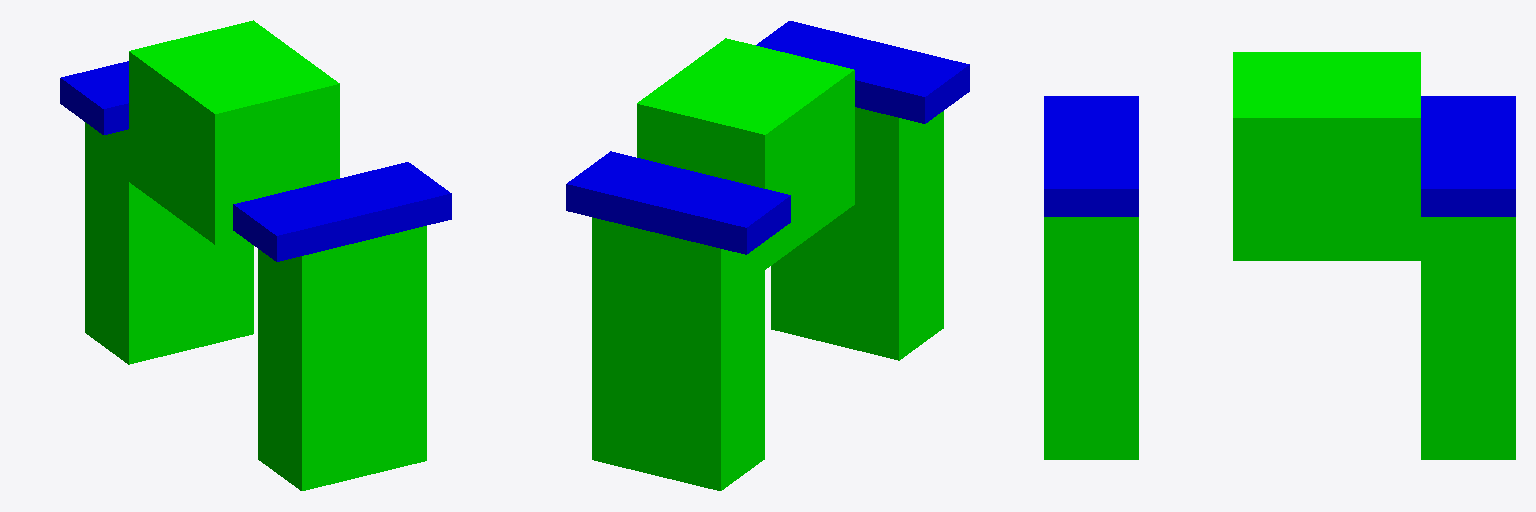
--- What the picture shows (computed from the rendered views, not written in the file) ---
The picture shows the robot from 3 angles, left to right: view 1: azimuth 30°, elevation 25°; view 2: azimuth 150°, elevation 25°; view 3: azimuth 270°, elevation 25°; orthographic projection.
Model robot with 27 links and 26 joints (26 revolute), rooted at root, posed every joint at zero.
Links seen in each view (by area): view 1: [phone redacted] (×18), 000, 010, 000-121, 000-101, 000-111, 010-100, 010-120, 010-110; view 2: [phone redacted] (×18), 010, 000, 010-120, 000-101, 000-121, 010-100, 010-110, 000-111; view 3: [phone redacted] (×18), 000, 010, 010-100, 010-120, 000-101, 000-121, 010-110, 000-111.
Boxes of the visible links, x1,y1,x2,y2 form: [phone redacted] (×18): [85, 122, 426, 490]; 000: [172, 52, 339, 244]; 010: [129, 20, 295, 212]; 000-121: [262, 183, 451, 261]; 000-101: [233, 162, 421, 240]; 000-111: [248, 172, 436, 250]; 010-100: [89, 89, 128, 134]; 010-120: [60, 61, 128, 113]; 010-110: [75, 75, 128, 123]; [phone redacted] (×18): [592, 107, 943, 490]; 010: [637, 71, 809, 269]; 000: [682, 38, 854, 236]; 010-120: [566, 173, 760, 254]; 000-101: [756, 42, 939, 123]; 000-121: [775, 21, 969, 101]; 010-100: [597, 151, 790, 232]; 010-110: [582, 162, 775, 243]; 000-111: [761, 31, 954, 112]; [phone redacted] (×18): [1044, 217, 1515, 459]; 000: [1233, 52, 1326, 260]; 010: [1327, 52, 1420, 260]; 010-100: [1421, 96, 1452, 216]; 010-120: [1484, 96, 1515, 216]; 000-101: [1107, 96, 1138, 216]; 000-121: [1044, 96, 1075, 216]; 010-110: [1453, 96, 1483, 216]; 000-111: [1076, 96, 1106, 216].
Size in the robot's own frame: 0.7 by 1.5 by 1.2 metres.
Geometry: primitives only (box / cylinder / sphere), no mesh files.

The robot description file, URDF, robot "robot":
<robot name = "robot">
    <link name="root">
        <inertial>
            <origin xyz="0.0 0.0 1.5" rpy="0 0 0"/>
            <mass value="1" />
            <inertia ixx="100" ixy="0" ixz="0" iyy="100" iyz="0" izz="100" />
        </inertial>
        <visual>
            <origin xyz="0.0 0.0 1.5" rpy="0 0 0"/>
            <geometry>
                <box size="0 0 0.0001" />
            </geometry>
            <material name="Green">
                <color rgba="0 1.0 0.0 1.0"/>
            </material>
        </visual>
        <collision>
            <origin xyz="0.0 0.0 1.5" rpy="0 0 0"/>
            <geometry>
                <box size="0 0 0.0001" />
            </geometry>
        </collision>
    </link>
    <joint name="root_000" type="revolute">
       <parent link="root"/>
       <child  link="000"/>
       <origin rpy="0 0 0" xyz="0.0 0.0 1.5" />
     <axis xyz="1 0 0"/>
       <limit effort="0.0" lower="-3.14159" upper="3.14159" velocity="0.0"/>
    </joint>
    <link name="000">
        <inertial>
            <origin xyz="0.0 0.15 0.0" rpy="0 0 0"/>
            <mass value="1" />
            <inertia ixx="100" ixy="0" ixz="0" iyy="100" iyz="0" izz="100" />
        </inertial>
        <visual>
            <origin xyz="0.0 0.15 0.0" rpy="0 0 0"/>
            <geometry>
                <box size="0.5 0.3 0.5" />
            </geometry>
            <material name="Green">
                <color rgba="0 1.0 0.0 1.0"/>
            </material>
        </visual>
        <collision>
            <origin xyz="0.0 0.15 0.0" rpy="0 0 0"/>
            <geometry>
                <box size="0.5 0.3 0.5" />
            </geometry>
        </collision>
    </link>
    <joint name="000_010" type="revolute">
       <parent link="000"/>
       <child  link="010"/>
       <origin rpy="0 0 0" xyz="0.0 0.3 -0.0" />
     <axis xyz="0 1 0"/>
       <limit effort="0.0" lower="-3.14159" upper="3.14159" velocity="0.0"/>
    </joint>
    <link name="010">
        <inertial>
            <origin xyz="0.0 0.15 -0.0" rpy="0 0 0"/>
            <mass value="1" />
            <inertia ixx="100" ixy="0" ixz="0" iyy="100" iyz="0" izz="100" />
        </inertial>
        <visual>
            <origin xyz="0.0 0.15 -0.0" rpy="0 0 0"/>
            <geometry>
                <box size="0.5 0.3 0.5" />
            </geometry>
            <material name="Green">
                <color rgba="0 1.0 0.0 1.0"/>
            </material>
        </visual>
        <collision>
            <origin xyz="0.0 0.15 -0.0" rpy="0 0 0"/>
            <geometry>
                <box size="0.5 0.3 0.5" />
            </geometry>
        </collision>
    </link>
    <joint name="010_010-100" type="revolute">
       <parent link="010"/>
       <child  link="010-100"/>
       <origin rpy="0 0 0" xyz="0.0 0.3 -0.0" />
     <axis xyz="0 1 0"/>
       <limit effort="0.0" lower="-3.14159" upper="3.14159" velocity="0.0"/>
    </joint>
    <link name="010-100">
        <inertial>
            <origin xyz="0.0 0.05 -0.0" rpy="0 0 0"/>
            <mass value="1" />
            <inertia ixx="100" ixy="0" ixz="0" iyy="100" iyz="0" izz="100" />
        </inertial>
        <visual>
            <origin xyz="0.0 0.05 -0.0" rpy="0 0 0"/>
            <geometry>
                <box size="0.7 0.1 0.1" />
            </geometry>
            <material name="Blue">
                <color rgba="0 0.0 1.0 1.0"/>
            </material>
        </visual>
        <collision>
            <origin xyz="0.0 0.05 -0.0" rpy="0 0 0"/>
            <geometry>
                <box size="0.7 0.1 0.1" />
            </geometry>
        </collision>
    </link>
    <joint name="010-100_010-110" type="revolute">
       <parent link="010-100"/>
       <child  link="010-110"/>
       <origin rpy="0 0 0" xyz="0.0 0.1 -0.0" />
     <axis xyz="0 1 0"/>
       <limit effort="0.0" lower="-3.14159" upper="3.14159" velocity="0.0"/>
    </joint>
    <link name="010-110">
        <inertial>
            <origin xyz="0.0 0.05 -0.0" rpy="0 0 0"/>
            <mass value="1" />
            <inertia ixx="100" ixy="0" ixz="0" iyy="100" iyz="0" izz="100" />
        </inertial>
        <visual>
            <origin xyz="0.0 0.05 -0.0" rpy="0 0 0"/>
            <geometry>
                <box size="0.7 0.1 0.1" />
            </geometry>
            <material name="Blue">
                <color rgba="0 0.0 1.0 1.0"/>
            </material>
        </visual>
        <collision>
            <origin xyz="0.0 0.05 -0.0" rpy="0 0 0"/>
            <geometry>
                <box size="0.7 0.1 0.1" />
            </geometry>
        </collision>
    </link>
    <joint name="010-110_010-120" type="revolute">
       <parent link="010-110"/>
       <child  link="010-120"/>
       <origin rpy="0 0 0" xyz="0.0 0.1 -0.0" />
     <axis xyz="0 1 0"/>
       <limit effort="0.0" lower="-3.14159" upper="3.14159" velocity="0.0"/>
    </joint>
    <link name="010-120">
        <inertial>
            <origin xyz="0.0 0.05 -0.0" rpy="0 0 0"/>
            <mass value="1" />
            <inertia ixx="100" ixy="0" ixz="0" iyy="100" iyz="0" izz="100" />
        </inertial>
        <visual>
            <origin xyz="0.0 0.05 -0.0" rpy="0 0 0"/>
            <geometry>
                <box size="0.7 0.1 0.1" />
            </geometry>
            <material name="Blue">
                <color rgba="0 0.0 1.0 1.0"/>
            </material>
        </visual>
        <collision>
            <origin xyz="0.0 0.05 -0.0" rpy="0 0 0"/>
            <geometry>
                <box size="0.7 0.1 0.1" />
            </geometry>
        </collision>
    </link>
    <joint name="010-120_010-120-200" type="revolute">
       <parent link="010-120"/>
       <child  link="010-120-200"/>
       <origin rpy="0 0 0" xyz="0.0 0.05 -0.05" />
     <axis xyz="0 0 1"/>
       <limit effort="0.0" lower="-3.14159" upper="3.14159" velocity="0.0"/>
    </joint>
    <link name="010-120-200">
        <inertial>
            <origin xyz="0.0 0.0 -0.15" rpy="0 0 0"/>
            <mass value="1" />
            <inertia ixx="100" ixy="0" ixz="0" iyy="100" iyz="0" izz="100" />
        </inertial>
        <visual>
            <origin xyz="0.0 0.0 -0.15" rpy="0 0 0"/>
            <geometry>
                <box size="0.5 0.1 0.3" />
            </geometry>
            <material name="Green">
                <color rgba="0 1.0 0.0 1.0"/>
            </material>
        </visual>
        <collision>
            <origin xyz="0.0 0.0 -0.15" rpy="0 0 0"/>
            <geometry>
                <box size="0.5 0.1 0.3" />
            </geometry>
        </collision>
    </link>
    <joint name="010-120-200_010-120-210" type="revolute">
       <parent link="010-120-200"/>
       <child  link="010-120-210"/>
       <origin rpy="0 0 0" xyz="0.0 0.0 -0.3" />
     <axis xyz="0 0 1"/>
       <limit effort="0.0" lower="-3.14159" upper="3.14159" velocity="0.0"/>
    </joint>
    <link name="010-120-210">
        <inertial>
            <origin xyz="0.0 0.0 -0.15" rpy="0 0 0"/>
            <mass value="1" />
            <inertia ixx="100" ixy="0" ixz="0" iyy="100" iyz="0" izz="100" />
        </inertial>
        <visual>
            <origin xyz="0.0 0.0 -0.15" rpy="0 0 0"/>
            <geometry>
                <box size="0.5 0.1 0.3" />
            </geometry>
            <material name="Green">
                <color rgba="0 1.0 0.0 1.0"/>
            </material>
        </visual>
        <collision>
            <origin xyz="0.0 0.0 -0.15" rpy="0 0 0"/>
            <geometry>
                <box size="0.5 0.1 0.3" />
            </geometry>
        </collision>
    </link>
    <joint name="010-120-210_010-120-220" type="revolute">
       <parent link="010-120-210"/>
       <child  link="010-120-220"/>
       <origin rpy="0 0 0" xyz="0.0 0.0 -0.3" />
     <axis xyz="0 0 1"/>
       <limit effort="0.0" lower="-3.14159" upper="3.14159" velocity="0.0"/>
    </joint>
    <link name="010-120-220">
        <inertial>
            <origin xyz="0.0 0.0 -0.15" rpy="0 0 0"/>
            <mass value="1" />
            <inertia ixx="100" ixy="0" ixz="0" iyy="100" iyz="0" izz="100" />
        </inertial>
        <visual>
            <origin xyz="0.0 0.0 -0.15" rpy="0 0 0"/>
            <geometry>
                <box size="0.5 0.1 0.3" />
            </geometry>
            <material name="Green">
                <color rgba="0 1.0 0.0 1.0"/>
            </material>
        </visual>
        <collision>
            <origin xyz="0.0 0.0 -0.15" rpy="0 0 0"/>
            <geometry>
                <box size="0.5 0.1 0.3" />
            </geometry>
        </collision>
    </link>
    <joint name="010-110_010-110-200" type="revolute">
       <parent link="010-110"/>
       <child  link="010-110-200"/>
       <origin rpy="0 0 0" xyz="0.0 0.05 -0.05" />
     <axis xyz="0 0 1"/>
       <limit effort="0.0" lower="-3.14159" upper="3.14159" velocity="0.0"/>
    </joint>
    <link name="010-110-200">
        <inertial>
            <origin xyz="0.0 0.0 -0.15" rpy="0 0 0"/>
            <mass value="1" />
            <inertia ixx="100" ixy="0" ixz="0" iyy="100" iyz="0" izz="100" />
        </inertial>
        <visual>
            <origin xyz="0.0 0.0 -0.15" rpy="0 0 0"/>
            <geometry>
                <box size="0.5 0.1 0.3" />
            </geometry>
            <material name="Green">
                <color rgba="0 1.0 0.0 1.0"/>
            </material>
        </visual>
        <collision>
            <origin xyz="0.0 0.0 -0.15" rpy="0 0 0"/>
            <geometry>
                <box size="0.5 0.1 0.3" />
            </geometry>
        </collision>
    </link>
    <joint name="010-110-200_010-110-210" type="revolute">
       <parent link="010-110-200"/>
       <child  link="010-110-210"/>
       <origin rpy="0 0 0" xyz="0.0 0.0 -0.3" />
     <axis xyz="0 0 1"/>
       <limit effort="0.0" lower="-3.14159" upper="3.14159" velocity="0.0"/>
    </joint>
    <link name="010-110-210">
        <inertial>
            <origin xyz="0.0 0.0 -0.15" rpy="0 0 0"/>
            <mass value="1" />
            <inertia ixx="100" ixy="0" ixz="0" iyy="100" iyz="0" izz="100" />
        </inertial>
        <visual>
            <origin xyz="0.0 0.0 -0.15" rpy="0 0 0"/>
            <geometry>
                <box size="0.5 0.1 0.3" />
            </geometry>
            <material name="Green">
                <color rgba="0 1.0 0.0 1.0"/>
            </material>
        </visual>
        <collision>
            <origin xyz="0.0 0.0 -0.15" rpy="0 0 0"/>
            <geometry>
                <box size="0.5 0.1 0.3" />
            </geometry>
        </collision>
    </link>
    <joint name="010-110-210_010-110-220" type="revolute">
       <parent link="010-110-210"/>
       <child  link="010-110-220"/>
       <origin rpy="0 0 0" xyz="0.0 0.0 -0.3" />
     <axis xyz="0 0 1"/>
       <limit effort="0.0" lower="-3.14159" upper="3.14159" velocity="0.0"/>
    </joint>
    <link name="010-110-220">
        <inertial>
            <origin xyz="0.0 0.0 -0.15" rpy="0 0 0"/>
            <mass value="1" />
            <inertia ixx="100" ixy="0" ixz="0" iyy="100" iyz="0" izz="100" />
        </inertial>
        <visual>
            <origin xyz="0.0 0.0 -0.15" rpy="0 0 0"/>
            <geometry>
                <box size="0.5 0.1 0.3" />
            </geometry>
            <material name="Green">
                <color rgba="0 1.0 0.0 1.0"/>
            </material>
        </visual>
        <collision>
            <origin xyz="0.0 0.0 -0.15" rpy="0 0 0"/>
            <geometry>
                <box size="0.5 0.1 0.3" />
            </geometry>
        </collision>
    </link>
    <joint name="010-100_010-100-200" type="revolute">
       <parent link="010-100"/>
       <child  link="010-100-200"/>
       <origin rpy="0 0 0" xyz="0.0 0.05 -0.05" />
     <axis xyz="0 0 1"/>
       <limit effort="0.0" lower="-3.14159" upper="3.14159" velocity="0.0"/>
    </joint>
    <link name="010-100-200">
        <inertial>
            <origin xyz="0.0 0.0 -0.15" rpy="0 0 0"/>
            <mass value="1" />
            <inertia ixx="100" ixy="0" ixz="0" iyy="100" iyz="0" izz="100" />
        </inertial>
        <visual>
            <origin xyz="0.0 0.0 -0.15" rpy="0 0 0"/>
            <geometry>
                <box size="0.5 0.1 0.3" />
            </geometry>
            <material name="Green">
                <color rgba="0 1.0 0.0 1.0"/>
            </material>
        </visual>
        <collision>
            <origin xyz="0.0 0.0 -0.15" rpy="0 0 0"/>
            <geometry>
                <box size="0.5 0.1 0.3" />
            </geometry>
        </collision>
    </link>
    <joint name="010-100-200_010-100-210" type="revolute">
       <parent link="010-100-200"/>
       <child  link="010-100-210"/>
       <origin rpy="0 0 0" xyz="0.0 0.0 -0.3" />
     <axis xyz="0 0 1"/>
       <limit effort="0.0" lower="-3.14159" upper="3.14159" velocity="0.0"/>
    </joint>
    <link name="010-100-210">
        <inertial>
            <origin xyz="0.0 0.0 -0.15" rpy="0 0 0"/>
            <mass value="1" />
            <inertia ixx="100" ixy="0" ixz="0" iyy="100" iyz="0" izz="100" />
        </inertial>
        <visual>
            <origin xyz="0.0 0.0 -0.15" rpy="0 0 0"/>
            <geometry>
                <box size="0.5 0.1 0.3" />
            </geometry>
            <material name="Green">
                <color rgba="0 1.0 0.0 1.0"/>
            </material>
        </visual>
        <collision>
            <origin xyz="0.0 0.0 -0.15" rpy="0 0 0"/>
            <geometry>
                <box size="0.5 0.1 0.3" />
            </geometry>
        </collision>
    </link>
    <joint name="010-100-210_010-100-220" type="revolute">
       <parent link="010-100-210"/>
       <child  link="010-100-220"/>
       <origin rpy="0 0 0" xyz="0.0 0.0 -0.3" />
     <axis xyz="0 0 1"/>
       <limit effort="0.0" lower="-3.14159" upper="3.14159" velocity="0.0"/>
    </joint>
    <link name="010-100-220">
        <inertial>
            <origin xyz="0.0 0.0 -0.15" rpy="0 0 0"/>
            <mass value="1" />
            <inertia ixx="100" ixy="0" ixz="0" iyy="100" iyz="0" izz="100" />
        </inertial>
        <visual>
            <origin xyz="0.0 0.0 -0.15" rpy="0 0 0"/>
            <geometry>
                <box size="0.5 0.1 0.3" />
            </geometry>
            <material name="Green">
                <color rgba="0 1.0 0.0 1.0"/>
            </material>
        </visual>
        <collision>
            <origin xyz="0.0 0.0 -0.15" rpy="0 0 0"/>
            <geometry>
                <box size="0.5 0.1 0.3" />
            </geometry>
        </collision>
    </link>
    <joint name="000_000-101" type="revolute">
       <parent link="000"/>
       <child  link="000-101"/>
       <origin rpy="0 0 0" xyz="0.0 -0.3 -0.0" />
     <axis xyz="0 1 0"/>
       <limit effort="0.0" lower="-3.14159" upper="3.14159" velocity="0.0"/>
    </joint>
    <link name="000-101">
        <inertial>
            <origin xyz="0.0 -0.05 -0.0" rpy="0 0 0"/>
            <mass value="1" />
            <inertia ixx="100" ixy="0" ixz="0" iyy="100" iyz="0" izz="100" />
        </inertial>
        <visual>
            <origin xyz="0.0 -0.05 -0.0" rpy="0 0 0"/>
            <geometry>
                <box size="0.7 0.1 0.1" />
            </geometry>
            <material name="Blue">
                <color rgba="0 0.0 1.0 1.0"/>
            </material>
        </visual>
        <collision>
            <origin xyz="0.0 -0.05 -0.0" rpy="0 0 0"/>
            <geometry>
                <box size="0.7 0.1 0.1" />
            </geometry>
        </collision>
    </link>
    <joint name="000-101_000-111" type="revolute">
       <parent link="000-101"/>
       <child  link="000-111"/>
       <origin rpy="0 0 0" xyz="0.0 -0.1 -0.0" />
     <axis xyz="0 1 0"/>
       <limit effort="0.0" lower="-3.14159" upper="3.14159" velocity="0.0"/>
    </joint>
    <link name="000-111">
        <inertial>
            <origin xyz="0.0 -0.05 -0.0" rpy="0 0 0"/>
            <mass value="1" />
            <inertia ixx="100" ixy="0" ixz="0" iyy="100" iyz="0" izz="100" />
        </inertial>
        <visual>
            <origin xyz="0.0 -0.05 -0.0" rpy="0 0 0"/>
            <geometry>
                <box size="0.7 0.1 0.1" />
            </geometry>
            <material name="Blue">
                <color rgba="0 0.0 1.0 1.0"/>
            </material>
        </visual>
        <collision>
            <origin xyz="0.0 -0.05 -0.0" rpy="0 0 0"/>
            <geometry>
                <box size="0.7 0.1 0.1" />
            </geometry>
        </collision>
    </link>
    <joint name="000-111_000-121" type="revolute">
       <parent link="000-111"/>
       <child  link="000-121"/>
       <origin rpy="0 0 0" xyz="0.0 -0.1 -0.0" />
     <axis xyz="0 1 0"/>
       <limit effort="0.0" lower="-3.14159" upper="3.14159" velocity="0.0"/>
    </joint>
    <link name="000-121">
        <inertial>
            <origin xyz="0.0 -0.05 -0.0" rpy="0 0 0"/>
            <mass value="1" />
            <inertia ixx="100" ixy="0" ixz="0" iyy="100" iyz="0" izz="100" />
        </inertial>
        <visual>
            <origin xyz="0.0 -0.05 -0.0" rpy="0 0 0"/>
            <geometry>
                <box size="0.7 0.1 0.1" />
            </geometry>
            <material name="Blue">
                <color rgba="0 0.0 1.0 1.0"/>
            </material>
        </visual>
        <collision>
            <origin xyz="0.0 -0.05 -0.0" rpy="0 0 0"/>
            <geometry>
                <box size="0.7 0.1 0.1" />
            </geometry>
        </collision>
    </link>
    <joint name="000-121_000-121-200" type="revolute">
       <parent link="000-121"/>
       <child  link="000-121-200"/>
       <origin rpy="0 0 0" xyz="0.0 -0.05 -0.05" />
     <axis xyz="0 0 1"/>
       <limit effort="0.0" lower="-3.14159" upper="3.14159" velocity="0.0"/>
    </joint>
    <link name="000-121-200">
        <inertial>
            <origin xyz="0.0 -0.0 -0.15" rpy="0 0 0"/>
            <mass value="1" />
            <inertia ixx="100" ixy="0" ixz="0" iyy="100" iyz="0" izz="100" />
        </inertial>
        <visual>
            <origin xyz="0.0 -0.0 -0.15" rpy="0 0 0"/>
            <geometry>
                <box size="0.5 0.1 0.3" />
            </geometry>
            <material name="Green">
                <color rgba="0 1.0 0.0 1.0"/>
            </material>
        </visual>
        <collision>
            <origin xyz="0.0 -0.0 -0.15" rpy="0 0 0"/>
            <geometry>
                <box size="0.5 0.1 0.3" />
            </geometry>
        </collision>
    </link>
    <joint name="000-121-200_000-121-210" type="revolute">
       <parent link="000-121-200"/>
       <child  link="000-121-210"/>
       <origin rpy="0 0 0" xyz="0.0 -0.0 -0.3" />
     <axis xyz="0 0 1"/>
       <limit effort="0.0" lower="-3.14159" upper="3.14159" velocity="0.0"/>
    </joint>
    <link name="000-121-210">
        <inertial>
            <origin xyz="0.0 -0.0 -0.15" rpy="0 0 0"/>
            <mass value="1" />
            <inertia ixx="100" ixy="0" ixz="0" iyy="100" iyz="0" izz="100" />
        </inertial>
        <visual>
            <origin xyz="0.0 -0.0 -0.15" rpy="0 0 0"/>
            <geometry>
                <box size="0.5 0.1 0.3" />
            </geometry>
            <material name="Green">
                <color rgba="0 1.0 0.0 1.0"/>
            </material>
        </visual>
        <collision>
            <origin xyz="0.0 -0.0 -0.15" rpy="0 0 0"/>
            <geometry>
                <box size="0.5 0.1 0.3" />
            </geometry>
        </collision>
    </link>
    <joint name="000-121-210_000-121-220" type="revolute">
       <parent link="000-121-210"/>
       <child  link="000-121-220"/>
       <origin rpy="0 0 0" xyz="0.0 -0.0 -0.3" />
     <axis xyz="0 0 1"/>
       <limit effort="0.0" lower="-3.14159" upper="3.14159" velocity="0.0"/>
    </joint>
    <link name="000-121-220">
        <inertial>
            <origin xyz="0.0 -0.0 -0.15" rpy="0 0 0"/>
            <mass value="1" />
            <inertia ixx="100" ixy="0" ixz="0" iyy="100" iyz="0" izz="100" />
        </inertial>
        <visual>
            <origin xyz="0.0 -0.0 -0.15" rpy="0 0 0"/>
            <geometry>
                <box size="0.5 0.1 0.3" />
            </geometry>
            <material name="Green">
                <color rgba="0 1.0 0.0 1.0"/>
            </material>
        </visual>
        <collision>
            <origin xyz="0.0 -0.0 -0.15" rpy="0 0 0"/>
            <geometry>
                <box size="0.5 0.1 0.3" />
            </geometry>
        </collision>
    </link>
    <joint name="000-111_000-111-200" type="revolute">
       <parent link="000-111"/>
       <child  link="000-111-200"/>
       <origin rpy="0 0 0" xyz="0.0 -0.05 -0.05" />
     <axis xyz="0 0 1"/>
       <limit effort="0.0" lower="-3.14159" upper="3.14159" velocity="0.0"/>
    </joint>
    <link name="000-111-200">
        <inertial>
            <origin xyz="0.0 -0.0 -0.15" rpy="0 0 0"/>
            <mass value="1" />
            <inertia ixx="100" ixy="0" ixz="0" iyy="100" iyz="0" izz="100" />
        </inertial>
        <visual>
            <origin xyz="0.0 -0.0 -0.15" rpy="0 0 0"/>
            <geometry>
                <box size="0.5 0.1 0.3" />
            </geometry>
            <material name="Green">
                <color rgba="0 1.0 0.0 1.0"/>
            </material>
        </visual>
        <collision>
            <origin xyz="0.0 -0.0 -0.15" rpy="0 0 0"/>
            <geometry>
                <box size="0.5 0.1 0.3" />
            </geometry>
        </collision>
    </link>
    <joint name="000-111-200_000-111-210" type="revolute">
       <parent link="000-111-200"/>
       <child  link="000-111-210"/>
       <origin rpy="0 0 0" xyz="0.0 -0.0 -0.3" />
     <axis xyz="0 0 1"/>
       <limit effort="0.0" lower="-3.14159" upper="3.14159" velocity="0.0"/>
    </joint>
    <link name="000-111-210">
        <inertial>
            <origin xyz="0.0 -0.0 -0.15" rpy="0 0 0"/>
            <mass value="1" />
            <inertia ixx="100" ixy="0" ixz="0" iyy="100" iyz="0" izz="100" />
        </inertial>
        <visual>
            <origin xyz="0.0 -0.0 -0.15" rpy="0 0 0"/>
            <geometry>
                <box size="0.5 0.1 0.3" />
            </geometry>
            <material name="Green">
                <color rgba="0 1.0 0.0 1.0"/>
            </material>
        </visual>
        <collision>
            <origin xyz="0.0 -0.0 -0.15" rpy="0 0 0"/>
            <geometry>
                <box size="0.5 0.1 0.3" />
            </geometry>
        </collision>
    </link>
    <joint name="000-111-210_000-111-220" type="revolute">
       <parent link="000-111-210"/>
       <child  link="000-111-220"/>
       <origin rpy="0 0 0" xyz="0.0 -0.0 -0.3" />
     <axis xyz="0 0 1"/>
       <limit effort="0.0" lower="-3.14159" upper="3.14159" velocity="0.0"/>
    </joint>
    <link name="000-111-220">
        <inertial>
            <origin xyz="0.0 -0.0 -0.15" rpy="0 0 0"/>
            <mass value="1" />
            <inertia ixx="100" ixy="0" ixz="0" iyy="100" iyz="0" izz="100" />
        </inertial>
        <visual>
            <origin xyz="0.0 -0.0 -0.15" rpy="0 0 0"/>
            <geometry>
                <box size="0.5 0.1 0.3" />
            </geometry>
            <material name="Green">
                <color rgba="0 1.0 0.0 1.0"/>
            </material>
        </visual>
        <collision>
            <origin xyz="0.0 -0.0 -0.15" rpy="0 0 0"/>
            <geometry>
                <box size="0.5 0.1 0.3" />
            </geometry>
        </collision>
    </link>
    <joint name="000-101_000-101-200" type="revolute">
       <parent link="000-101"/>
       <child  link="000-101-200"/>
       <origin rpy="0 0 0" xyz="0.0 -0.05 -0.05" />
     <axis xyz="0 0 1"/>
       <limit effort="0.0" lower="-3.14159" upper="3.14159" velocity="0.0"/>
    </joint>
    <link name="000-101-200">
        <inertial>
            <origin xyz="0.0 -0.0 -0.15" rpy="0 0 0"/>
            <mass value="1" />
            <inertia ixx="100" ixy="0" ixz="0" iyy="100" iyz="0" izz="100" />
        </inertial>
        <visual>
            <origin xyz="0.0 -0.0 -0.15" rpy="0 0 0"/>
            <geometry>
                <box size="0.5 0.1 0.3" />
            </geometry>
            <material name="Green">
                <color rgba="0 1.0 0.0 1.0"/>
            </material>
        </visual>
        <collision>
            <origin xyz="0.0 -0.0 -0.15" rpy="0 0 0"/>
            <geometry>
                <box size="0.5 0.1 0.3" />
            </geometry>
        </collision>
    </link>
    <joint name="000-101-200_000-101-210" type="revolute">
       <parent link="000-101-200"/>
       <child  link="000-101-210"/>
       <origin rpy="0 0 0" xyz="0.0 -0.0 -0.3" />
     <axis xyz="0 0 1"/>
       <limit effort="0.0" lower="-3.14159" upper="3.14159" velocity="0.0"/>
    </joint>
    <link name="000-101-210">
        <inertial>
            <origin xyz="0.0 -0.0 -0.15" rpy="0 0 0"/>
            <mass value="1" />
            <inertia ixx="100" ixy="0" ixz="0" iyy="100" iyz="0" izz="100" />
        </inertial>
        <visual>
            <origin xyz="0.0 -0.0 -0.15" rpy="0 0 0"/>
            <geometry>
                <box size="0.5 0.1 0.3" />
            </geometry>
            <material name="Green">
                <color rgba="0 1.0 0.0 1.0"/>
            </material>
        </visual>
        <collision>
            <origin xyz="0.0 -0.0 -0.15" rpy="0 0 0"/>
            <geometry>
                <box size="0.5 0.1 0.3" />
            </geometry>
        </collision>
    </link>
    <joint name="000-101-210_000-101-220" type="revolute">
       <parent link="000-101-210"/>
       <child  link="000-101-220"/>
       <origin rpy="0 0 0" xyz="0.0 -0.0 -0.3" />
     <axis xyz="0 0 1"/>
       <limit effort="0.0" lower="-3.14159" upper="3.14159" velocity="0.0"/>
    </joint>
    <link name="000-101-220">
        <inertial>
            <origin xyz="0.0 -0.0 -0.15" rpy="0 0 0"/>
            <mass value="1" />
            <inertia ixx="100" ixy="0" ixz="0" iyy="100" iyz="0" izz="100" />
        </inertial>
        <visual>
            <origin xyz="0.0 -0.0 -0.15" rpy="0 0 0"/>
            <geometry>
                <box size="0.5 0.1 0.3" />
            </geometry>
            <material name="Green">
                <color rgba="0 1.0 0.0 1.0"/>
            </material>
        </visual>
        <collision>
            <origin xyz="0.0 -0.0 -0.15" rpy="0 0 0"/>
            <geometry>
                <box size="0.5 0.1 0.3" />
            </geometry>
        </collision>
    </link>
</robot>
